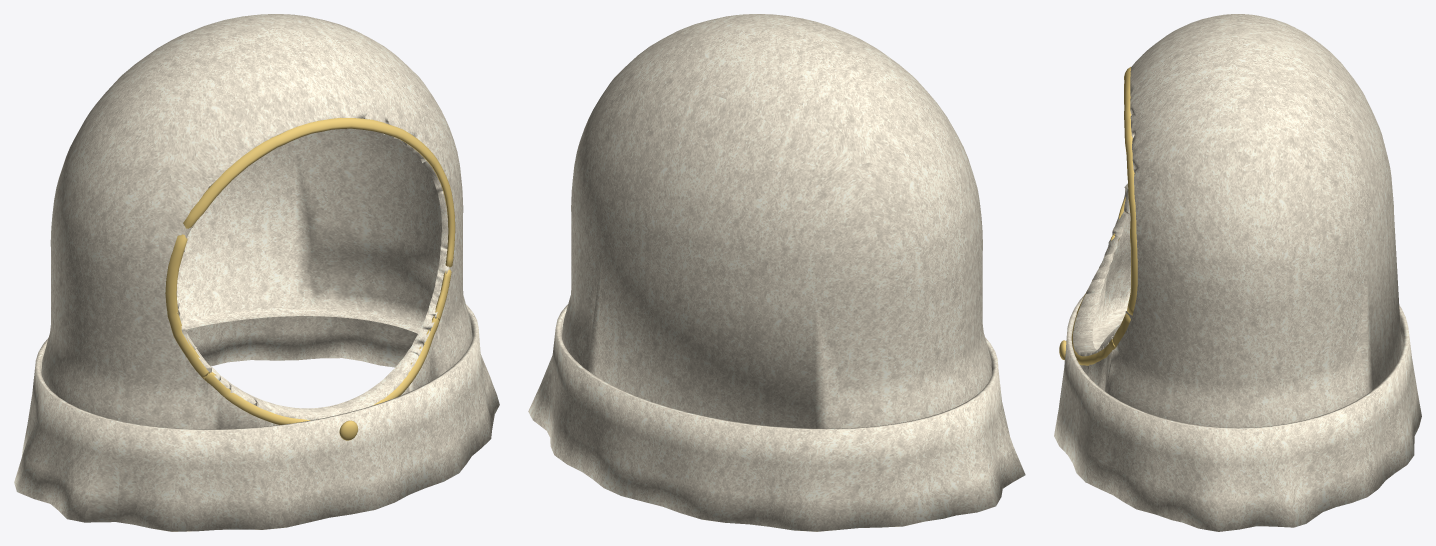
File: hijab5.fbx
The picture shows the model from 3 angles, left to right: view 1: azimuth 30°, elevation 25°; view 2: azimuth 150°, elevation 25°; view 3: azimuth 270°, elevation 25°; orthographic projection. The views are drawn at different scales.
Parts seen in each view (by area): view 1: hijab5; view 2: hijab5; view 3: hijab5.
Part boxes in pixels (box(x1,y1,x2,y2)): hijab5: box(14, 14, 499, 531); hijab5: box(528, 14, 1025, 531); hijab5: box(1054, 14, 1421, 531).
Bounding box in the file's own units: 1 × 0.8699 × 0.734.
2 materials, 1 textured.
